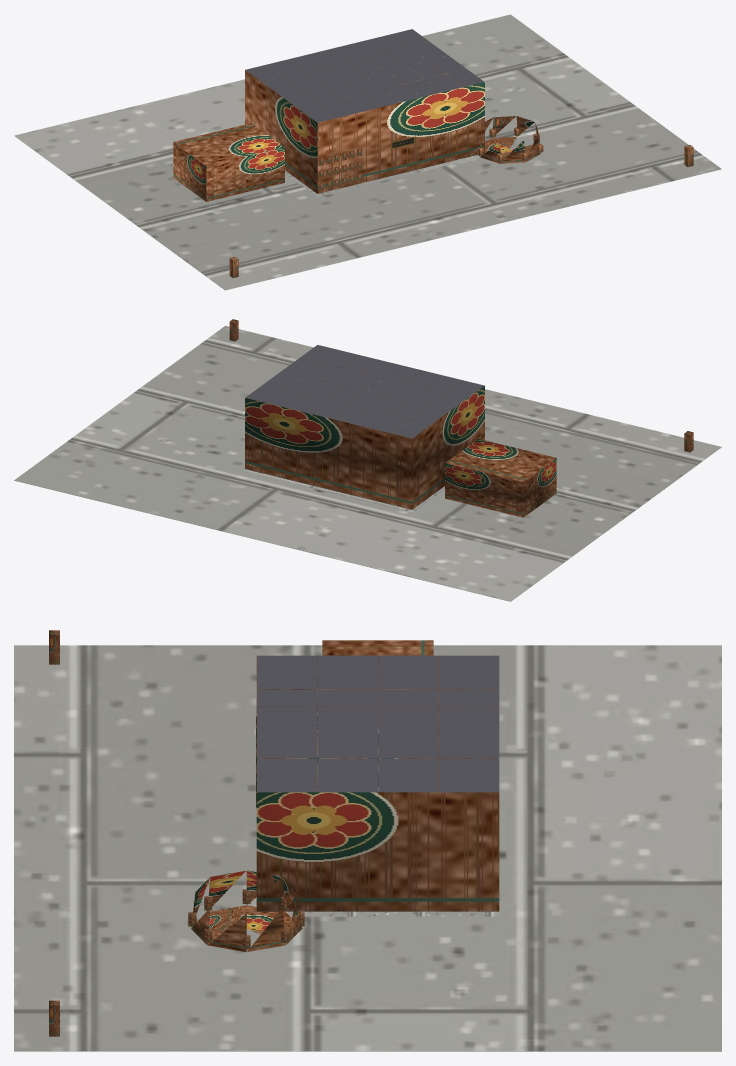
The picture shows the model from 3 angles, top to bottom: view 1: azimuth 30°, elevation 25°; view 2: azimuth 150°, elevation 25°; view 3: azimuth 270°, elevation 25°; orthographic projection. The views are drawn at different scales.
Visible parts, largest first — view 1: 11710_01_05717_041_01_L2__base, 11710_01_05717_041_02_L2__body, 11710_01_05717_041_03_L2__roof, 11710_01_05717_041_05_L2__openings; view 2: 11710_01_05717_041_01_L2__base, 11710_01_05717_041_02_L2__body, 11710_01_05717_041_03_L2__roof; view 3: 11710_01_05717_041_01_L2__base, 11710_01_05717_041_02_L2__body, 11710_01_05717_041_03_L2__roof, 11710_01_05717_041_06_L2__green.
Boxes of the visible parts, <box> form: 11710_01_05717_041_01_L2__base: <box>14,14,721,290</box>; 11710_01_05717_041_02_L2__body: <box>173,35,543,201</box>; 11710_01_05717_041_03_L2__roof: <box>245,29,483,122</box>; 11710_01_05717_041_05_L2__openings: <box>318,148,362,191</box>; 11710_01_05717_041_01_L2__base: <box>14,326,721,601</box>; 11710_01_05717_041_02_L2__body: <box>245,350,556,517</box>; 11710_01_05717_041_03_L2__roof: <box>245,345,484,438</box>; 11710_01_05717_041_01_L2__base: <box>14,645,721,1051</box>; 11710_01_05717_041_02_L2__body: <box>188,640,499,952</box>; 11710_01_05717_041_03_L2__roof: <box>257,655,499,792</box>; 11710_01_05717_041_06_L2__green: <box>49,630,59,1036</box>.
Bounding box in the file's own units: 190 × 27.22 × 140.
Materials: 5 (5 with a texture image).
